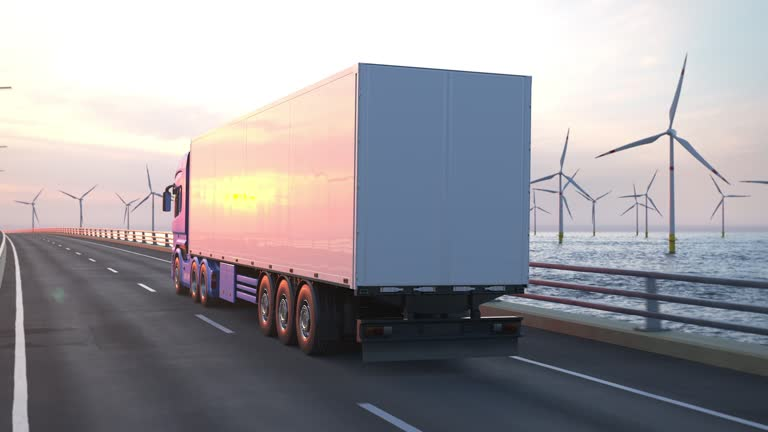Semi: (162, 62, 531, 362)
